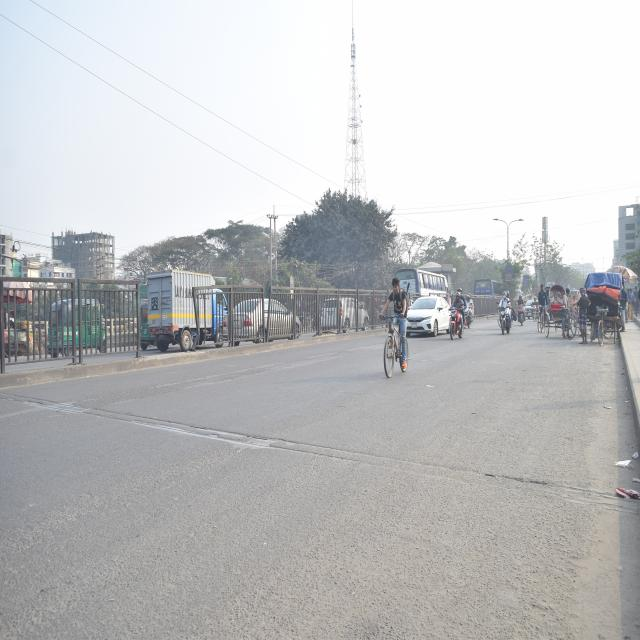car: (407, 294, 447, 344)
motorbike: (493, 296, 512, 338), (448, 302, 466, 346), (515, 292, 527, 330), (466, 298, 476, 328)
